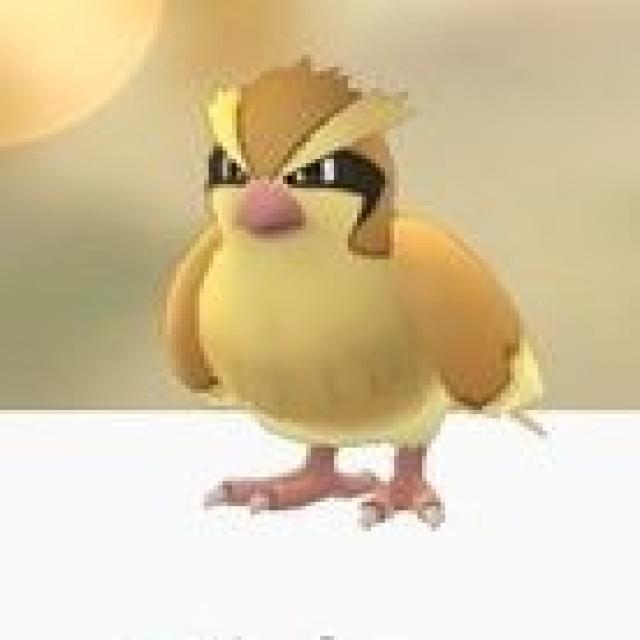Pidgey: (161, 54, 539, 515)
